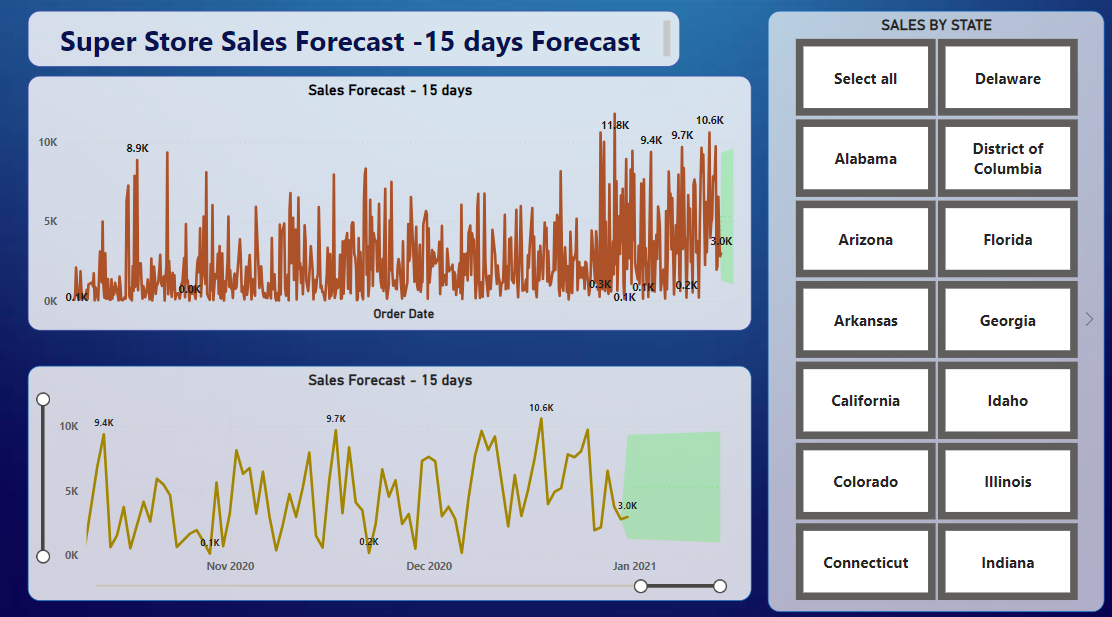

Layout of this report page (visuals, bound fields, positions):
{"tool":"powerbi","page":{"name":"Page 2","canvas":[1280,720],"ordinal":1},"visuals":[{"type":"lineChart","title":" Sales Forecast - 15 days","fields":{"Y":["Sum(Sheet1.Sales)"],"Category":["Sheet1.Order Date"]},"box":[32.5,89.6,827.3,290.9],"z":0},{"type":"lineChart","title":" Sales Forecast - 15 days","fields":{"Y":["Sum(Sheet1.Sales)"],"Category":["Sheet1.Order Date"]},"box":[32.5,420.8,827.3,268.8],"z":1000},{"type":"slicer","title":"SALES BY STATE","fields":{"Values":["Sheet1.State"]},"box":[877.9,15.6,384.4,687],"z":1001},{"type":"textbox","box":[32.5,15.6,745.5,63.6],"z":1002}]}

Visuals, with their boxes in screenshot pixels (x1, y1, x2, y2), scaled from the page's 1280x720 canvas onto the 1112x617 screenshot:
" Sales Forecast - 15 days" lineChart: crop(28, 77, 747, 326)
" Sales Forecast - 15 days" lineChart: crop(28, 361, 747, 591)
"SALES BY STATE" slicer: crop(763, 13, 1097, 602)
textbox: crop(28, 13, 676, 68)
